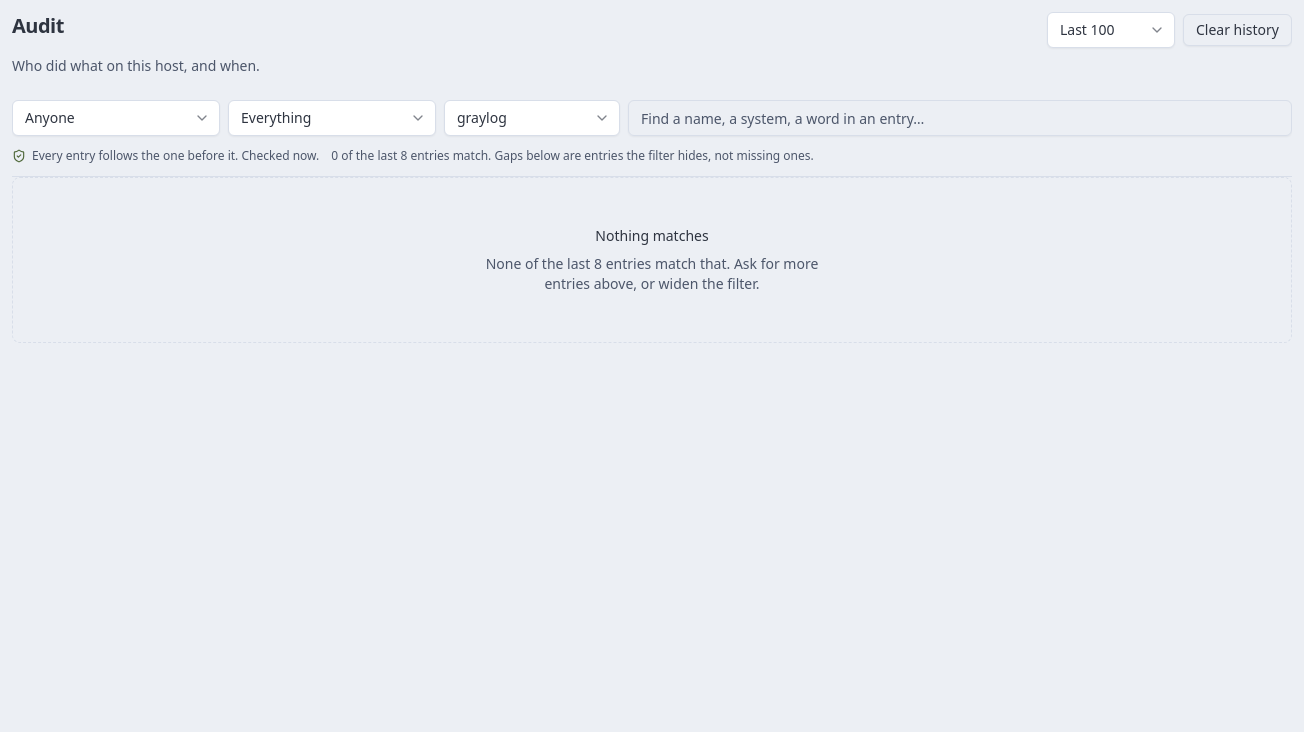
Scenario: the audit trail › draws a filter it arrived with, even when nothing in the window matches
The image size is (1304, 732).
Expected: the heading "Nothing matches" is shown, [595, 226, 709, 246]
Select "Every system" in the dropdown named "System" at [532, 118], box [444, 100, 620, 136]
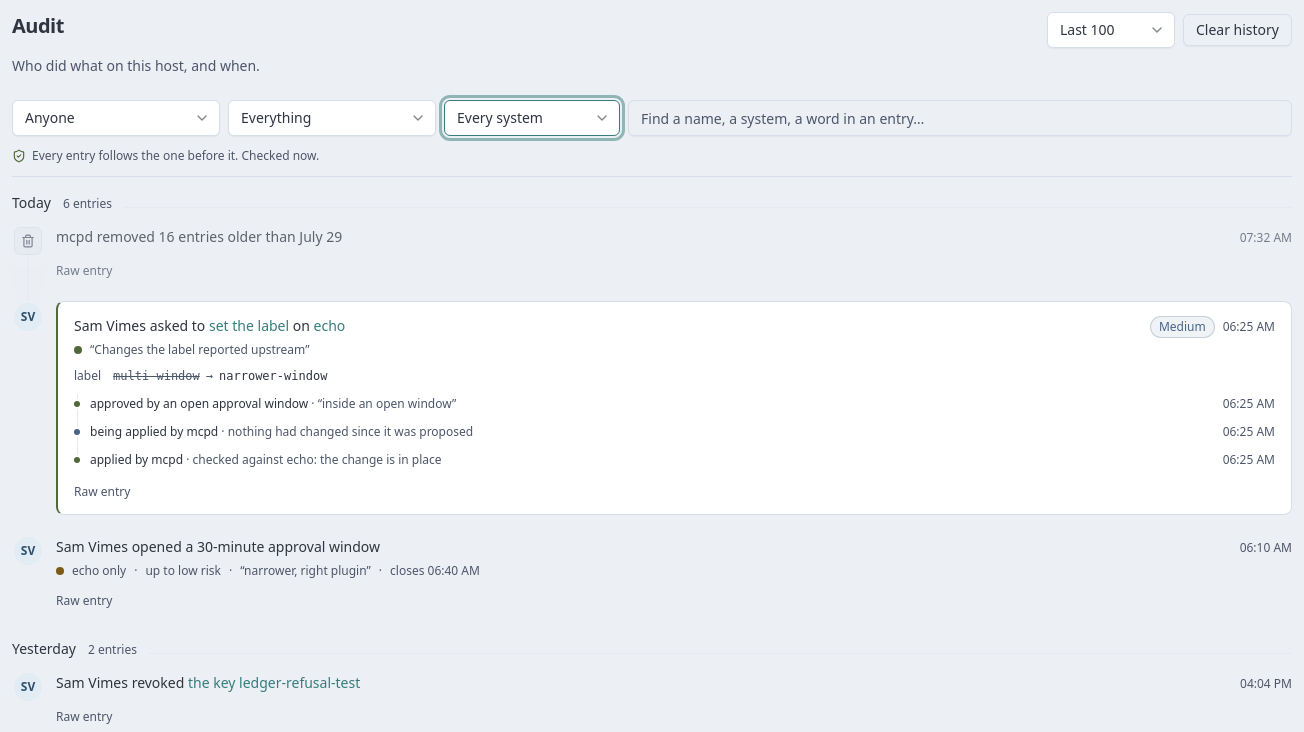
Expected: the text "Today" is shown, [12, 193, 51, 213]
